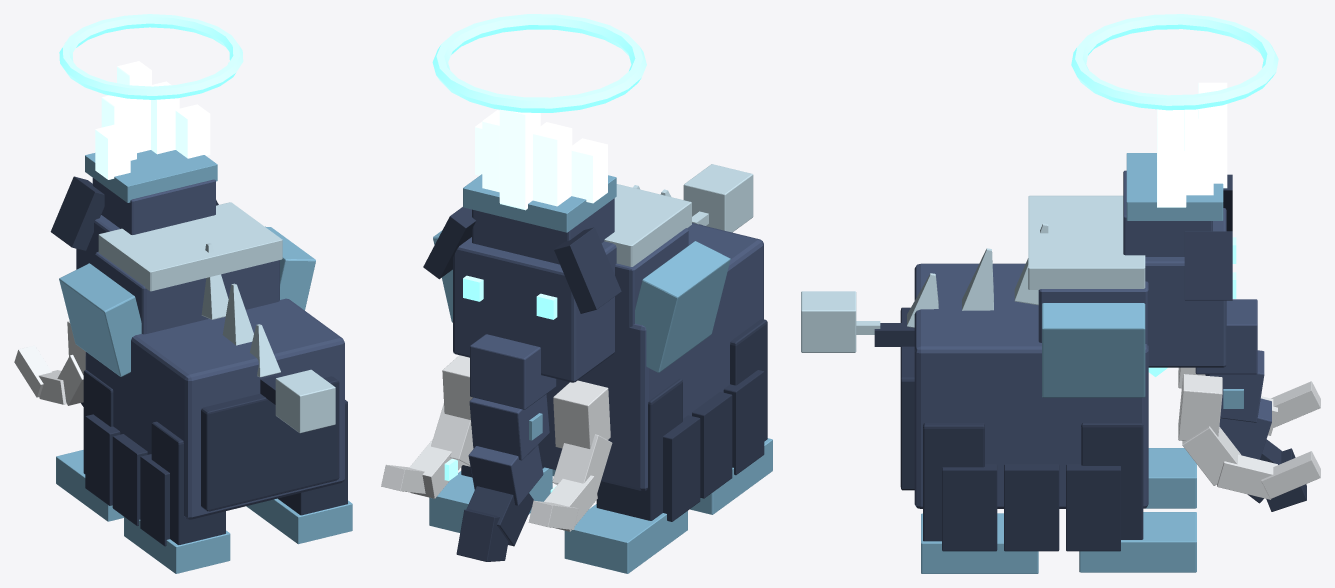
File: king-mammoth.glb
3 renders of one model, left to right at view 1: azimuth 30°, elevation 25°; view 2: azimuth 150°, elevation 25°; view 3: azimuth 270°, elevation 25°, orthographic. The views are drawn at different scales.
Visible parts, largest first — view 1: body, head, leg.BR, leg.BL, tail, leg.FR, ear.R; view 2: head, body, leg.FR, leg.BR, tail, ear.R, leg.FL, ear.L; view 3: body, head, leg.FL, leg.BL, tail, ear.L, leg.FR.
Boxes of the visible parts, x1,y1,x2,y2 form: body: (59, 202, 344, 546); head: (14, 14, 243, 406); leg.BR: (124, 421, 230, 573); leg.BL: (246, 400, 352, 544); tail: (260, 369, 335, 433); leg.FR: (56, 370, 123, 521); ear.R: (50, 176, 104, 251); head: (381, 14, 646, 561); body: (433, 184, 764, 521); leg.FR: (564, 378, 687, 573); leg.BR: (690, 319, 772, 514); tail: (683, 164, 753, 232); ear.R: (554, 227, 621, 313); leg.FL: (429, 465, 552, 532); ear.L: (423, 207, 475, 279); body: (900, 195, 1167, 551); head: (1071, 14, 1320, 511); leg.FL: (1079, 423, 1196, 572); leg.BL: (921, 423, 1038, 573); tail: (801, 291, 914, 352); ear.L: (1184, 231, 1232, 300); leg.FR: (1145, 448, 1196, 508).
Bounding box in the file's own units: 0.53 × 1 × 1.
